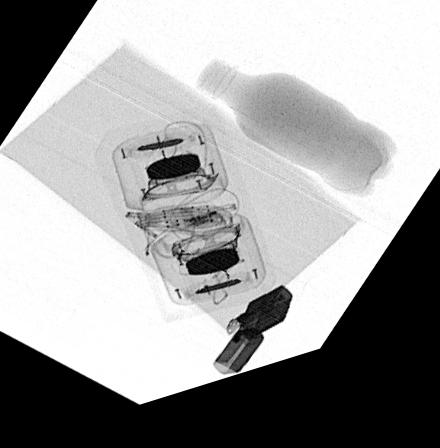Lighter: (211, 302, 293, 388)
